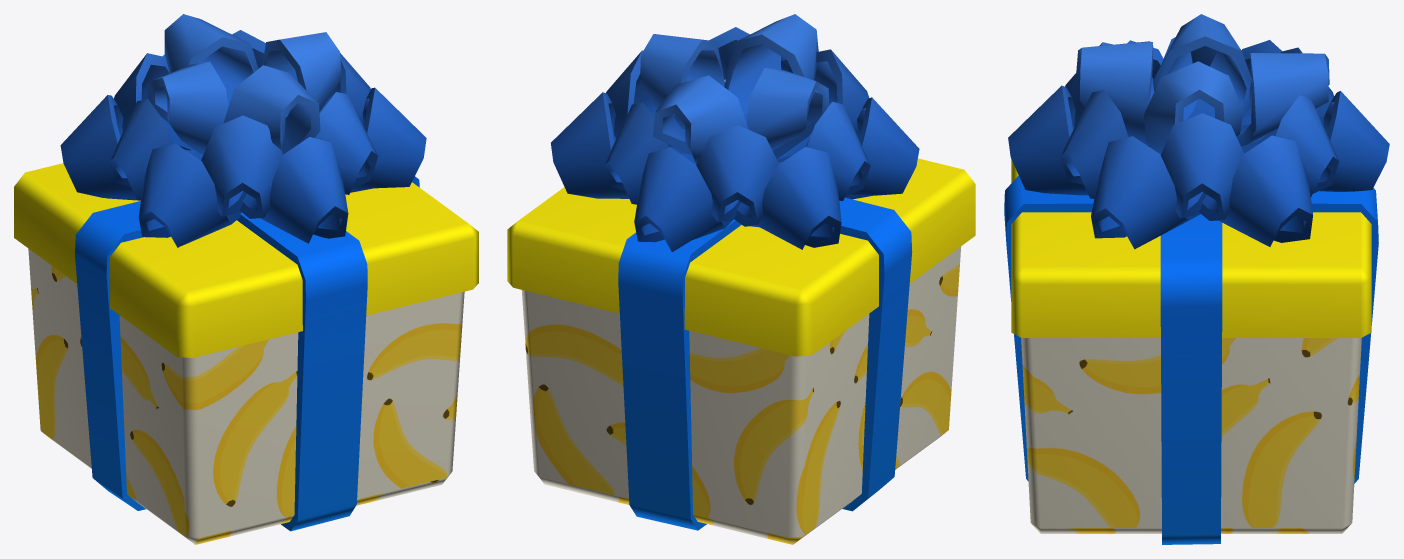
The model's file is giftbox_057.fbx.
3 views of the same model, side by side, from view 1: azimuth 30°, elevation 25°; view 2: azimuth 150°, elevation 25°; view 3: azimuth 270°, elevation 25° (orthographic). The views are drawn at different scales.
Visible parts, largest first — view 1: giftbox_057; view 2: giftbox_057; view 3: giftbox_057.
Part boxes in pixels (x1=…): giftbox_057: x1=14, y1=14, x2=478, y2=544; giftbox_057: x1=507, y1=14, x2=975, y2=544; giftbox_057: x1=1004, y1=14, x2=1389, y2=544.
Size of the model in its own units: 230 by 234 by 293.
